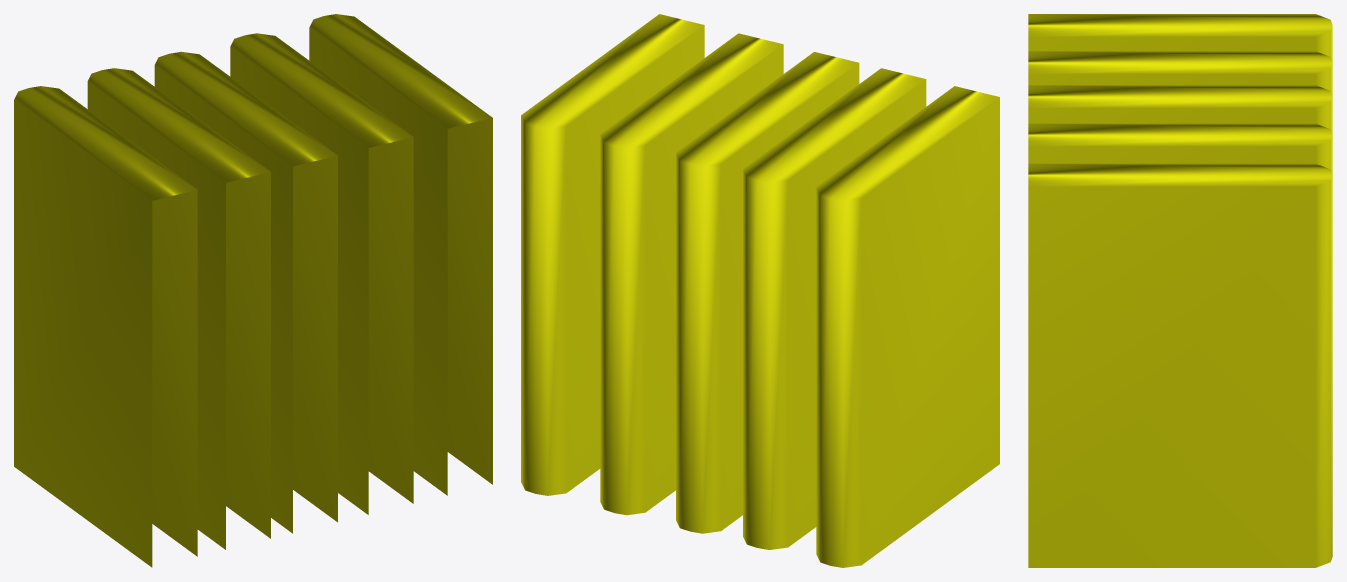
The model's file is LIBROS.fbx.
The picture shows the model from 3 angles, left to right: view 1: azimuth 30°, elevation 25°; view 2: azimuth 150°, elevation 25°; view 3: azimuth 270°, elevation 25°; orthographic projection. The views are drawn at different scales.
Visible parts, largest first — view 1: LIBROS; view 2: LIBROS; view 3: LIBROS.
Part boxes in pixels (x1,y1,x2,y2): LIBROS: [14, 14, 492, 567]; LIBROS: [521, 14, 999, 567]; LIBROS: [1028, 14, 1332, 567].
Size of the model in its own units: 0.5149 by 0.5307 by 0.3839.
